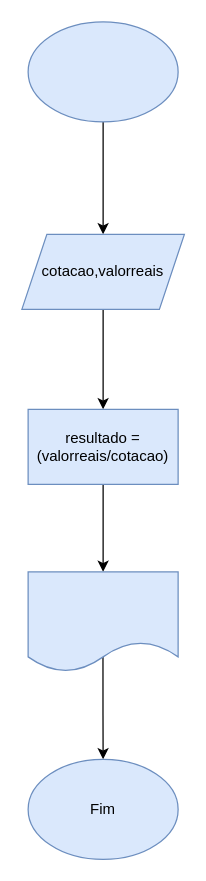
This 206x881 diagram has some shape labels left out. Each missing label, with the box of its shape:
Início: (27, 21, 178, 122)
resultado: (27, 571, 178, 672)
